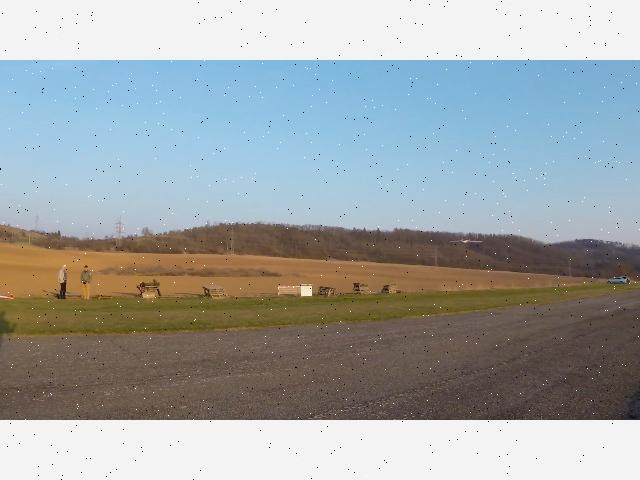Anti-Drone: (446, 239, 484, 243)
